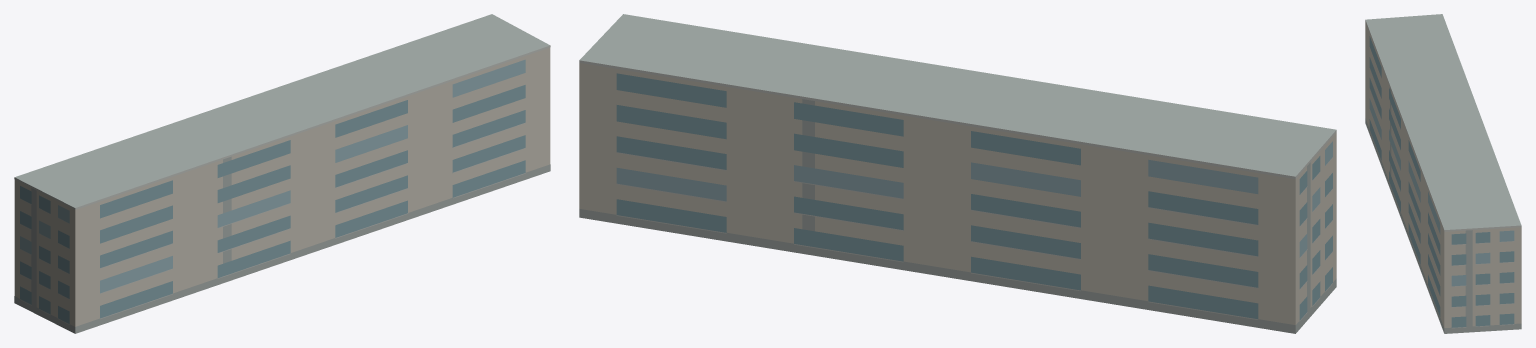
Rendered from survey-upis-33028744.glb.
The picture shows the model from 3 angles, left to right: view 1: azimuth 30°, elevation 25°; view 2: azimuth 150°, elevation 25°; view 3: azimuth 270°, elevation 25°; orthographic projection. The views are drawn at different scales.
Parts seen in each view (by area): view 1: survey-upis-33028744.tmp; view 2: survey-upis-33028744.tmp; view 3: survey-upis-33028744.tmp.
Boxes of the visible parts, x1,y1,x2,y2 form: survey-upis-33028744.tmp: (14,14,550,333); survey-upis-33028744.tmp: (579,14,1336,333); survey-upis-33028744.tmp: (1365,14,1521,333).
Size of the model in its own units: 68.12 by 15.25 by 20.8.
